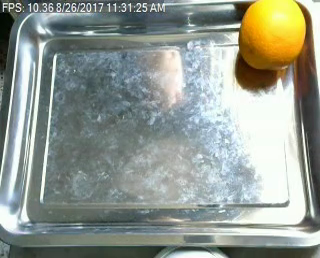Orange: (238, 1, 308, 69)
